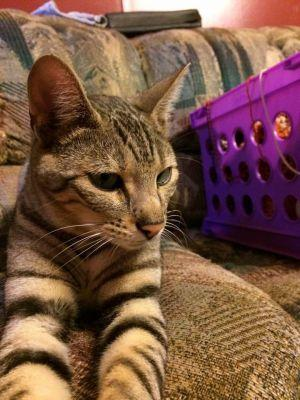bengal: (23, 46, 195, 261)
